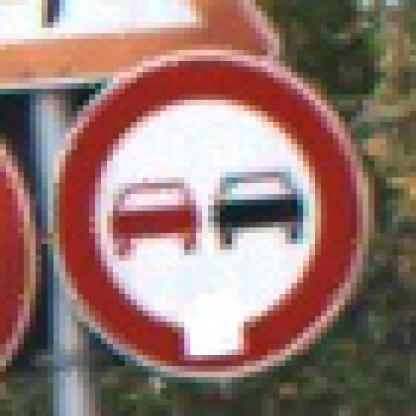No Overtaking: (37, 34, 375, 384)
